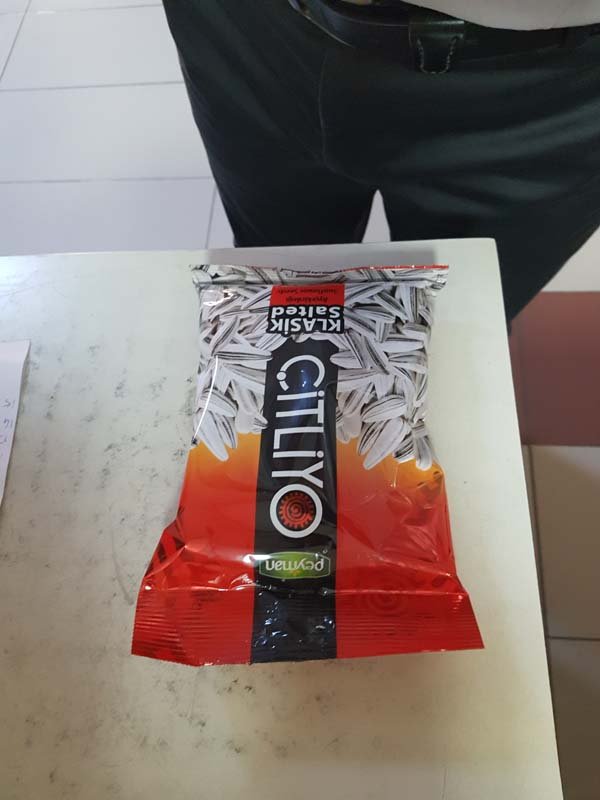citliyorklasik: (118, 257, 492, 676)
